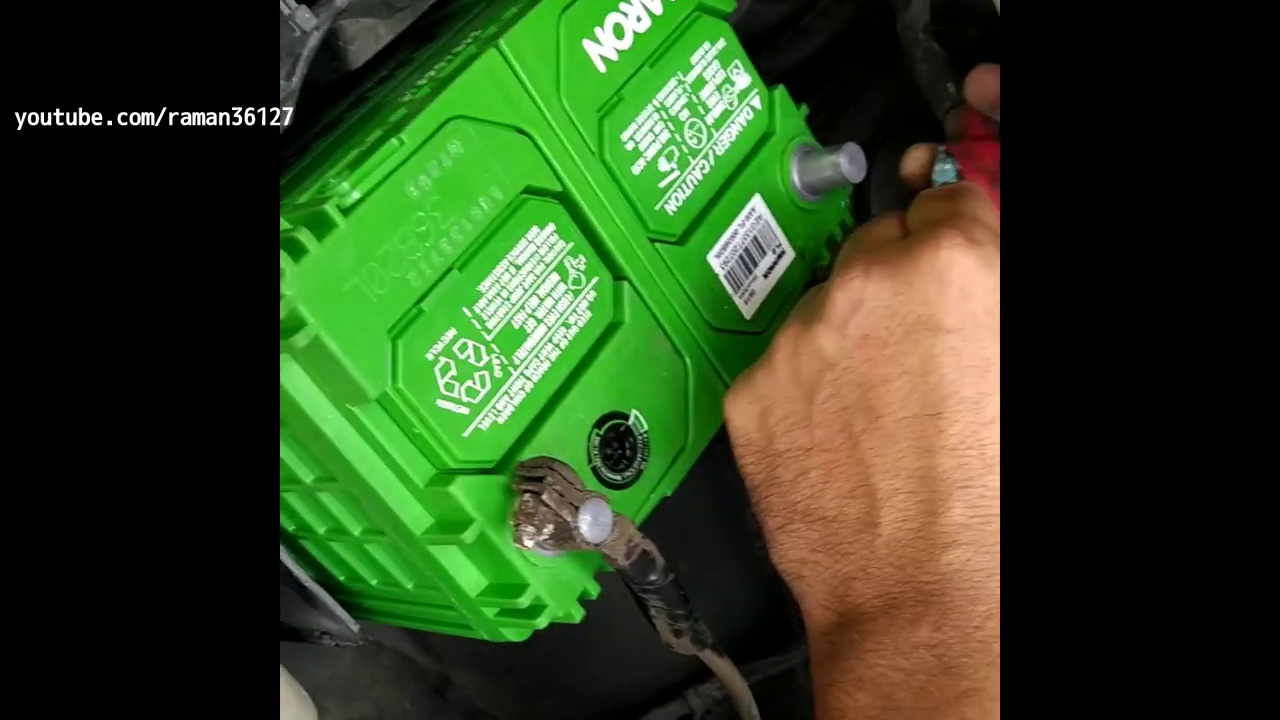battery: (286, 16, 874, 652)
